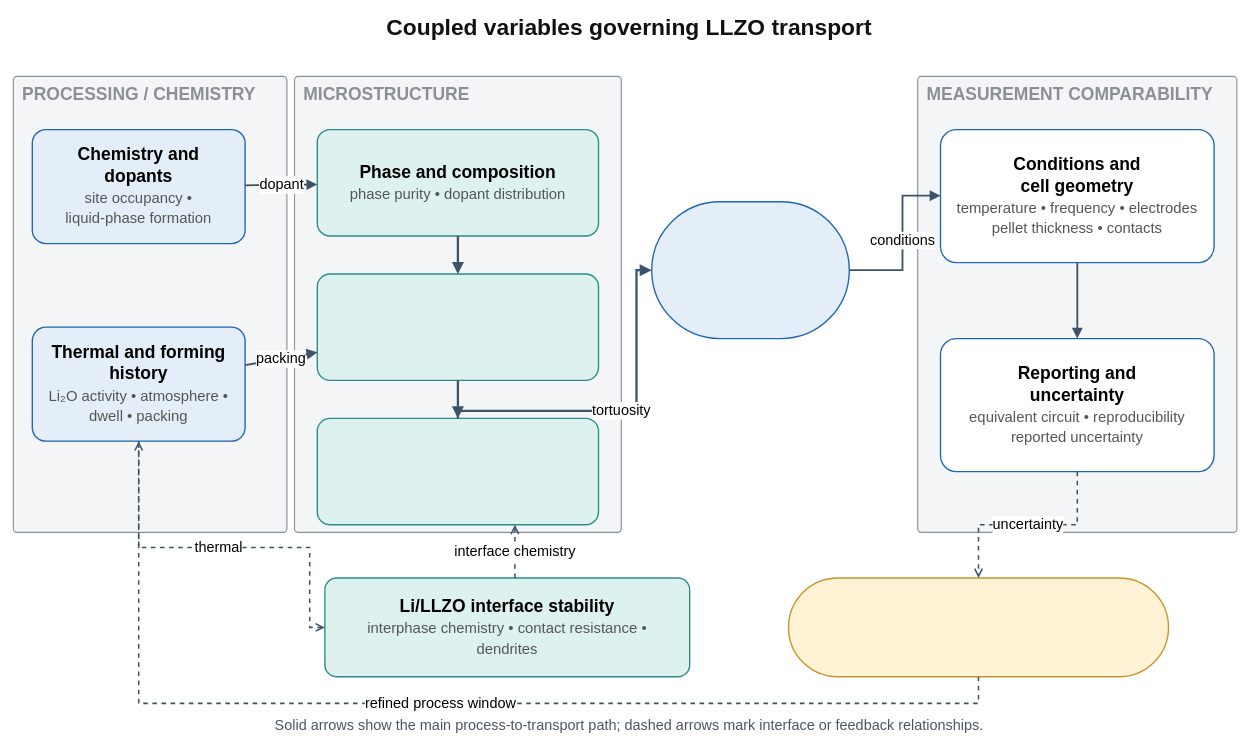
Image size: 1251x749. Some labels were removed from this diagram. Here are the shapes that lost their labels. From the top down, the centre of each, then its label:
At (x=750, y=270): "Ionic conductivity bulk • grain boundary • total".
At (x=457, y=327): "Density and grain structure relative density • porosity • grain size".
At (x=457, y=471): "Boundary and surface chemistry segregation • wetting films • Li₂CO₃ • humidity".
At (x=978, y=627): "Comparability → process design identify missing controls • refine process window".
